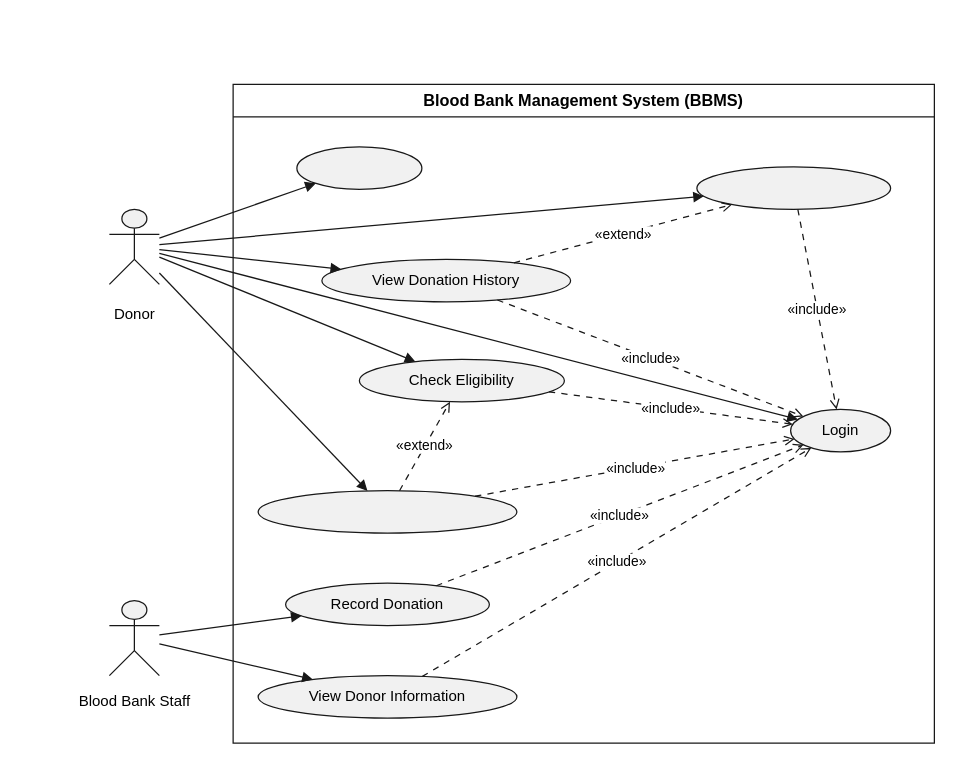
Some shapes in this 956 by 765 pixel diagram are drawn without their labels. Here are the shapes that lost their labels. From the top down, the centre of each, then its label:
(359,167): Register
(793,187): Manage Profile
(387,511): View Blood Availability
